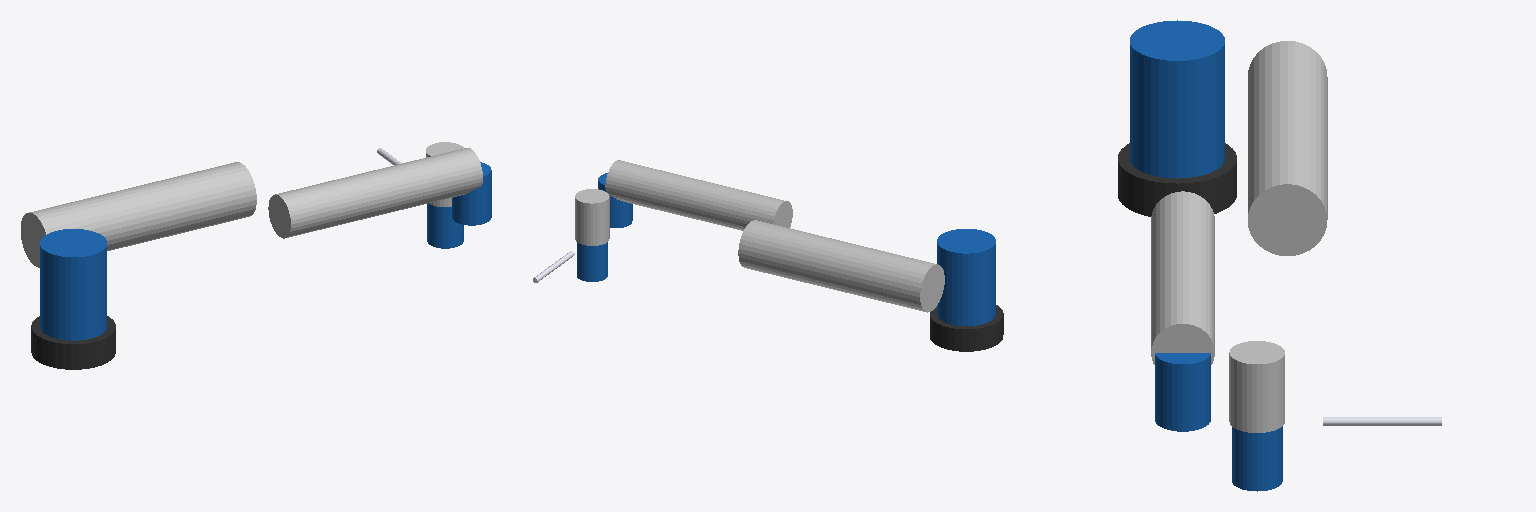
URDF robot description (surgitwin_manipulator):
<?xml version="1.0" encoding="utf-8"?>
<!--
  surgitwin_manipulator.urdf
  SurgiTwin 6-DOF Educational Surgical Robotic Manipulator Description
  Anatomically and mechanically plausible serial manipulator model based on standard
  UR5e kinematic geometry with surgical instrument end-effector attachment.
-->
<robot name="surgitwin_manipulator">

  <!-- World coordinate frame -->
  <link name="world"/>

  <!-- Base Link / Mounting pedestal -->
  <link name="base_link">
    <visual>
      <geometry>
        <cylinder radius="0.075" length="0.05"/>
      </geometry>
      <origin xyz="0 0 0.025" rpy="0 0 0"/>
      <material name="dark_gray">
        <color rgba="0.25 0.25 0.25 1.0"/>
      </material>
    </visual>
    <collision>
      <geometry>
        <cylinder radius="0.075" length="0.05"/>
      </geometry>
      <origin xyz="0 0 0.025" rpy="0 0 0"/>
    </collision>
    <inertial>
      <mass value="4.0"/>
      <origin xyz="0 0 0" rpy="0 0 0"/>
      <inertia ixx="0.0044" ixy="0.0" ixz="0.0" iyy="0.0044" iyz="0.0" izz="0.0078"/>
    </inertial>
  </link>

  <joint name="world_to_base" type="fixed">
    <parent link="world"/>
    <child link="base_link"/>
    <origin xyz="0 0 0" rpy="0 0 0"/>
  </joint>

  <!-- Shoulder Link -->
  <link name="shoulder_link">
    <visual>
      <geometry>
        <cylinder radius="0.06" length="0.1625"/>
      </geometry>
      <origin xyz="0 0 0.08125" rpy="0 0 0"/>
      <material name="metallic_blue">
        <color rgba="0.15 0.45 0.75 1.0"/>
      </material>
    </visual>
    <collision>
      <geometry>
        <cylinder radius="0.06" length="0.1625"/>
      </geometry>
      <origin xyz="0 0 0.08125" rpy="0 0 0"/>
    </collision>
    <inertial>
      <mass value="3.7"/>
      <origin xyz="0 0 0" rpy="0 0 0"/>
      <inertia ixx="0.0102" ixy="0.0" ixz="0.0" iyy="0.0102" iyz="0.0" izz="0.0066"/>
    </inertial>
  </link>

  <joint name="shoulder_pan_joint" type="revolute">
    <parent link="base_link"/>
    <child link="shoulder_link"/>
    <origin xyz="0 0 0.05" rpy="0 0 0"/>
    <axis xyz="0 0 1"/>
    <limit lower="-6.2831853" upper="6.2831853" effort="150.0" velocity="3.14159"/>
    <dynamics damping="0.5" friction="0.1"/>
  </joint>

  <!-- Upper Arm Link -->
  <link name="upper_arm_link">
    <visual>
      <geometry>
        <cylinder radius="0.05" length="0.425"/>
      </geometry>
      <origin xyz="0 0 0.2125" rpy="0 0 0"/>
      <material name="light_gray">
        <color rgba="0.8 0.8 0.8 1.0"/>
      </material>
    </visual>
    <collision>
      <geometry>
        <cylinder radius="0.05" length="0.425"/>
      </geometry>
      <origin xyz="0 0 0.2125" rpy="0 0 0"/>
    </collision>
    <inertial>
      <mass value="8.393"/>
      <origin xyz="0 0 0.2125" rpy="0 0 0"/>
      <inertia ixx="0.1338" ixy="0.0" ixz="0.0" iyy="0.1338" iyz="0.0" izz="0.0151"/>
    </inertial>
  </link>

  <joint name="shoulder_lift_joint" type="revolute">
    <parent link="shoulder_link"/>
    <child link="upper_arm_link"/>
    <origin xyz="0 0.138 0.1125" rpy="0 1.5707963 0"/>
    <axis xyz="0 1 0"/>
    <limit lower="-6.2831853" upper="6.2831853" effort="150.0" velocity="3.14159"/>
    <dynamics damping="0.5" friction="0.1"/>
  </joint>

  <!-- Forearm Link -->
  <link name="forearm_link">
    <visual>
      <geometry>
        <cylinder radius="0.04" length="0.3922"/>
      </geometry>
      <origin xyz="0 0 0.1961" rpy="0 0 0"/>
      <material name="light_gray"/>
    </visual>
    <collision>
      <geometry>
        <cylinder radius="0.04" length="0.3922"/>
      </geometry>
      <origin xyz="0 0 0.1961" rpy="0 0 0"/>
    </collision>
    <inertial>
      <mass value="2.275"/>
      <origin xyz="0 0 0.1961" rpy="0 0 0"/>
      <inertia ixx="0.0311" ixy="0.0" ixz="0.0" iyy="0.0311" iyz="0.0" izz="0.0040"/>
    </inertial>
  </link>

  <joint name="elbow_joint" type="revolute">
    <parent link="upper_arm_link"/>
    <child link="forearm_link"/>
    <origin xyz="0 -0.131 0.425" rpy="0 0 0"/>
    <axis xyz="0 1 0"/>
    <limit lower="-3.1415926" upper="3.1415926" effort="150.0" velocity="3.14159"/>
    <dynamics damping="0.5" friction="0.1"/>
  </joint>

  <!-- Wrist 1 Link -->
  <link name="wrist_1_link">
    <visual>
      <geometry>
        <cylinder radius="0.035" length="0.093"/>
      </geometry>
      <origin xyz="0 0 0.0465" rpy="0 0 0"/>
      <material name="metallic_blue"/>
    </visual>
    <collision>
      <geometry>
        <cylinder radius="0.035" length="0.093"/>
      </geometry>
      <origin xyz="0 0 0.0465" rpy="0 0 0"/>
    </collision>
    <inertial>
      <mass value="1.219"/>
      <origin xyz="0 0 0" rpy="0 0 0"/>
      <inertia ixx="0.0025" ixy="0.0" ixz="0.0" iyy="0.0025" iyz="0.0" izz="0.0017"/>
    </inertial>
  </link>

  <joint name="wrist_1_joint" type="revolute">
    <parent link="forearm_link"/>
    <child link="wrist_1_link"/>
    <origin xyz="0 0 0.3922" rpy="0 1.5707963 0"/>
    <axis xyz="0 1 0"/>
    <limit lower="-6.2831853" upper="6.2831853" effort="28.0" velocity="3.14159"/>
    <dynamics damping="0.2" friction="0.05"/>
  </joint>

  <!-- Wrist 2 Link -->
  <link name="wrist_2_link">
    <visual>
      <geometry>
        <cylinder radius="0.035" length="0.095"/>
      </geometry>
      <origin xyz="0 0 0.0475" rpy="0 0 0"/>
      <material name="light_gray"/>
    </visual>
    <collision>
      <geometry>
        <cylinder radius="0.035" length="0.095"/>
      </geometry>
      <origin xyz="0 0 0.0475" rpy="0 0 0"/>
    </collision>
    <inertial>
      <mass value="1.219"/>
      <origin xyz="0 0 0" rpy="0 0 0"/>
      <inertia ixx="0.0025" ixy="0.0" ixz="0.0" iyy="0.0025" iyz="0.0" izz="0.0017"/>
    </inertial>
  </link>

  <joint name="wrist_2_joint" type="revolute">
    <parent link="wrist_1_link"/>
    <child link="wrist_2_link"/>
    <origin xyz="0 0.093 0" rpy="0 0 0"/>
    <axis xyz="0 0 1"/>
    <limit lower="-6.2831853" upper="6.2831853" effort="28.0" velocity="3.14159"/>
    <dynamics damping="0.2" friction="0.05"/>
  </joint>

  <!-- Wrist 3 Link -->
  <link name="wrist_3_link">
    <visual>
      <geometry>
        <cylinder radius="0.032" length="0.082"/>
      </geometry>
      <origin xyz="0 0 0.041" rpy="0 0 0"/>
      <material name="metallic_blue"/>
    </visual>
    <collision>
      <geometry>
        <cylinder radius="0.032" length="0.082"/>
      </geometry>
      <origin xyz="0 0 0.041" rpy="0 0 0"/>
    </collision>
    <inertial>
      <mass value="0.1879"/>
      <origin xyz="0 0 0" rpy="0 0 0"/>
      <inertia ixx="0.0001" ixy="0.0" ixz="0.0" iyy="0.0001" iyz="0.0" izz="0.0001"/>
    </inertial>
  </link>

  <joint name="wrist_3_joint" type="revolute">
    <parent link="wrist_2_link"/>
    <child link="wrist_3_link"/>
    <origin xyz="0 0 0.095" rpy="0 0 0"/>
    <axis xyz="0 1 0"/>
    <limit lower="-6.2831853" upper="6.2831853" effort="28.0" velocity="3.14159"/>
    <dynamics damping="0.2" friction="0.05"/>
  </joint>

  <!-- Tool0 / Surgical Instrument Link -->
  <link name="tool0">
    <visual>
      <geometry>
        <cylinder radius="0.006" length="0.15"/>
      </geometry>
      <origin xyz="0 0 0.075" rpy="0 0 0"/>
      <material name="stainless_steel">
        <color rgba="0.9 0.9 0.95 1.0"/>
      </material>
    </visual>
    <collision>
      <geometry>
        <cylinder radius="0.006" length="0.15"/>
      </geometry>
      <origin xyz="0 0 0.075" rpy="0 0 0"/>
    </collision>
    <inertial>
      <mass value="0.15"/>
      <origin xyz="0 0 0.075" rpy="0 0 0"/>
      <inertia ixx="0.0003" ixy="0.0" ixz="0.0" iyy="0.0003" iyz="0.0" izz="0.00001"/>
    </inertial>
  </link>

  <joint name="wrist_3_to_tool0" type="fixed">
    <parent link="wrist_3_link"/>
    <child link="tool0"/>
    <origin xyz="0 0.082 0" rpy="-1.5707963 0 0"/>
  </joint>

</robot>

--- What the picture shows (computed from the rendered views, not written in the file) ---
Views: 3 orthographic renders of the robot side by side, from view 1: azimuth 30°, elevation 25°; view 2: azimuth 150°, elevation 25°; view 3: azimuth 270°, elevation 25°.
Robot: surgitwin_manipulator — 9 links, 8 joints (6 revolute, 2 fixed); root link world; default pose: all joints at 0.
Links seen in each view (by area): view 1: upper_arm_link, forearm_link, shoulder_link, base_link, wrist_1_link, wrist_3_link; view 2: upper_arm_link, forearm_link, shoulder_link, base_link, wrist_2_link, wrist_3_link, wrist_1_link; view 3: upper_arm_link, shoulder_link, forearm_link, wrist_2_link, wrist_1_link, base_link, wrist_3_link, tool0.
Link boxes in pixels (x1,y1,x2,y2): upper_arm_link: [21, 162, 256, 267]; forearm_link: [268, 148, 482, 238]; shoulder_link: [40, 229, 106, 340]; base_link: [31, 316, 115, 369]; wrist_1_link: [452, 162, 491, 225]; wrist_3_link: [427, 203, 463, 248]; upper_arm_link: [738, 220, 944, 312]; forearm_link: [605, 160, 792, 230]; shoulder_link: [937, 229, 995, 325]; base_link: [930, 305, 1003, 351]; wrist_2_link: [575, 189, 609, 245]; wrist_3_link: [577, 242, 607, 281]; wrist_1_link: [598, 173, 632, 227]; upper_arm_link: [1248, 41, 1327, 255]; shoulder_link: [1130, 20, 1224, 178]; forearm_link: [1151, 191, 1214, 364]; wrist_2_link: [1229, 341, 1284, 432]; wrist_1_link: [1155, 353, 1210, 431]; base_link: [1118, 143, 1236, 216]; wrist_3_link: [1232, 426, 1282, 491]; tool0: [1323, 417, 1441, 425].
Bounding box of the posed robot: 0.9272 × 0.407 × 0.227 m (x, y, z).
Geometry: primitives only (box / cylinder / sphere), no mesh files.
